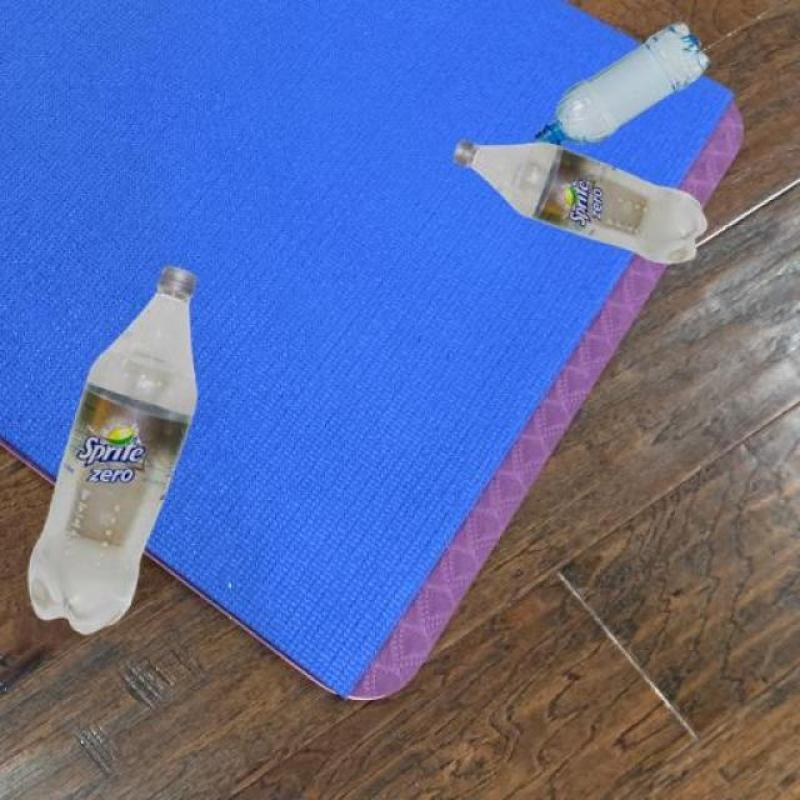botella: (27, 266, 195, 634), (454, 142, 708, 270), (528, 19, 711, 149)
